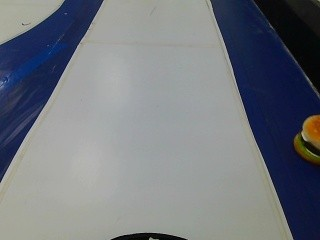burger: (288, 116, 318, 159)
